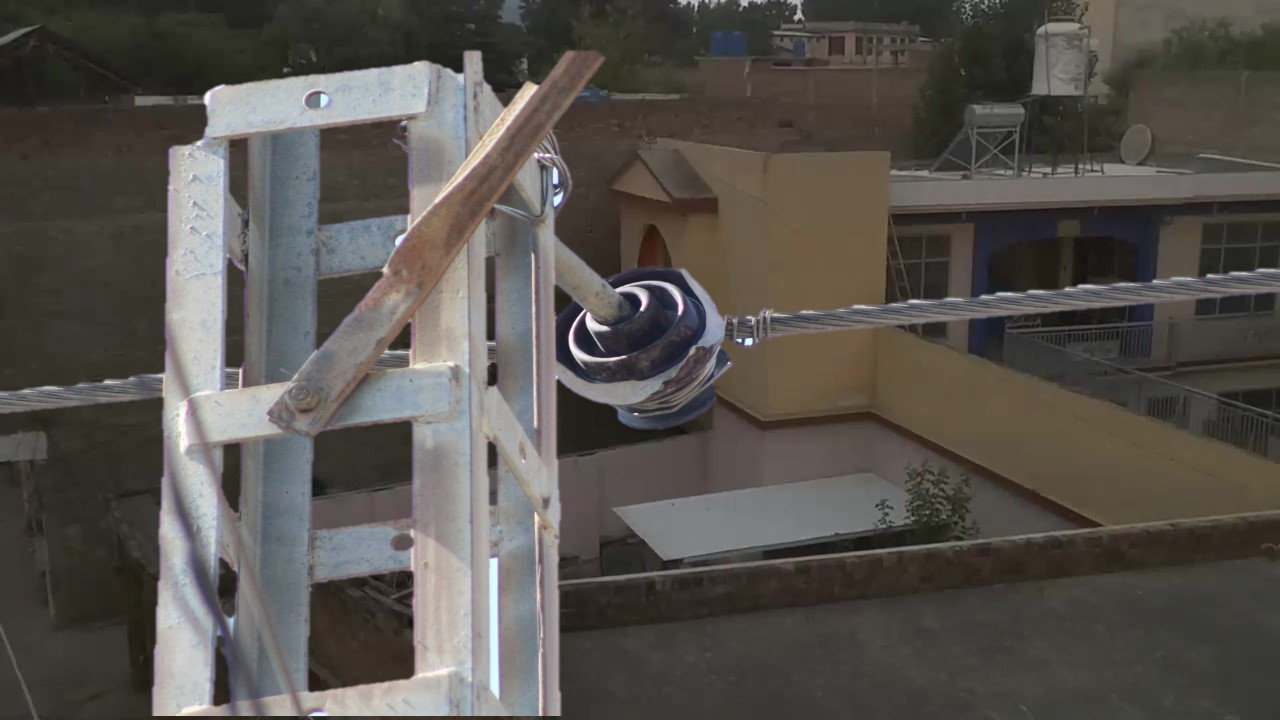defect_pin: (556, 250, 742, 449)
